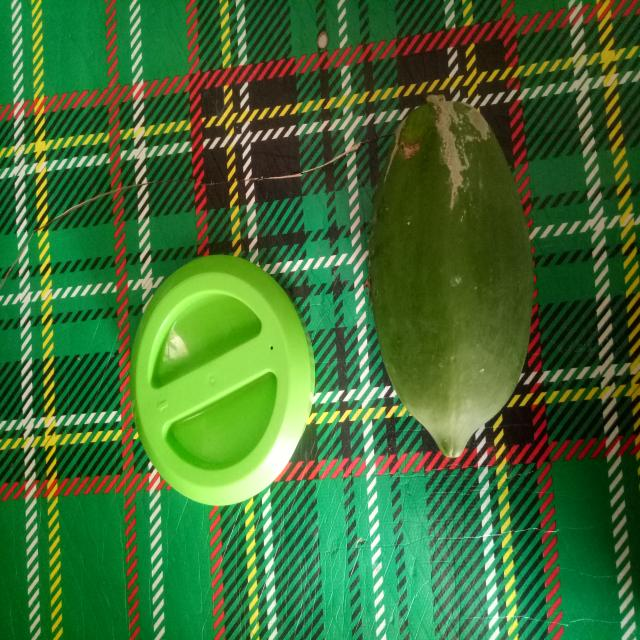Pepaya unrippen: (362, 76, 537, 465)
